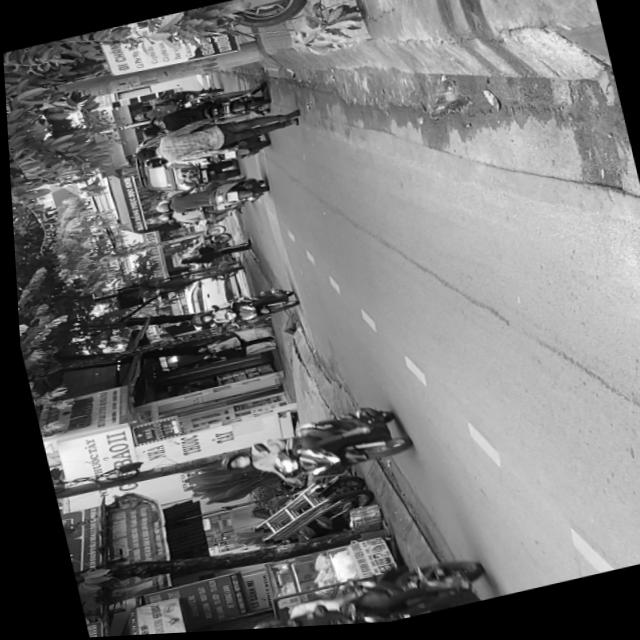helmet: (212, 453, 247, 475), (237, 619, 284, 632)
licenseplate: (228, 545, 502, 632), (206, 400, 410, 504)
